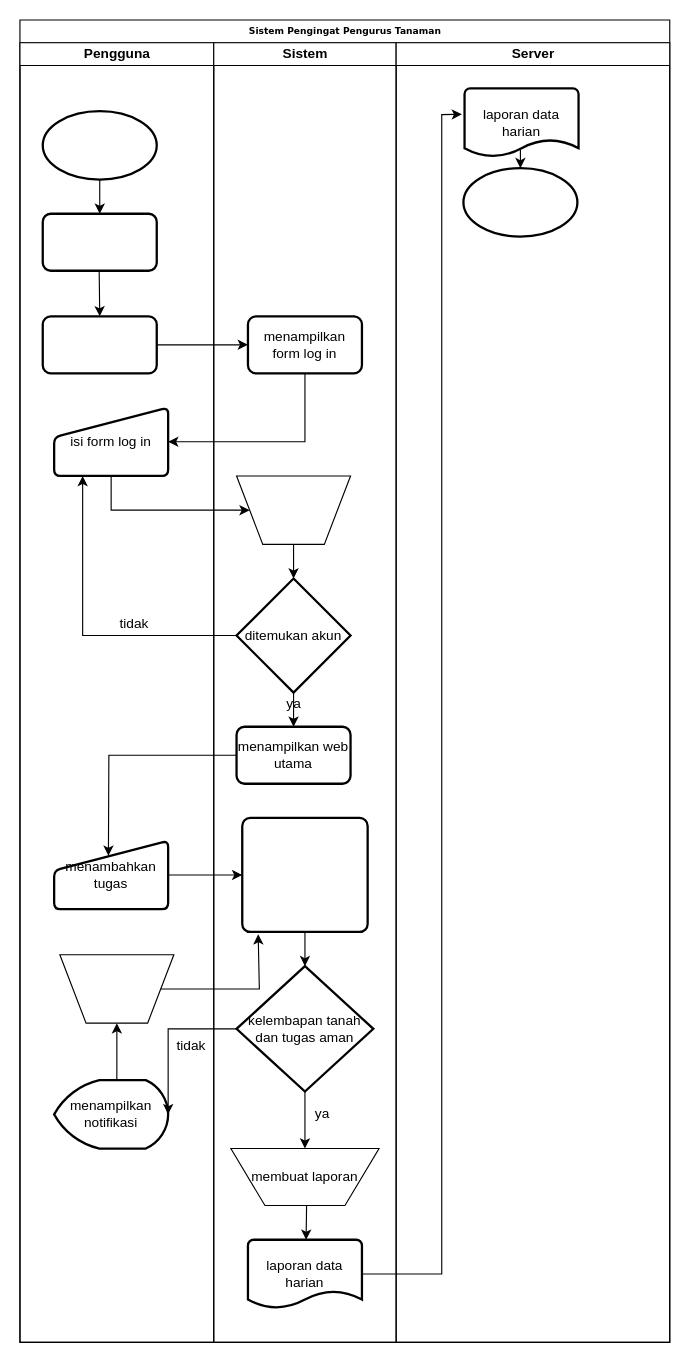
This 690x1362 diagram has some shape labels left out. The centre of each missing label's shape, as x and y in pixels:
"log in" goes at point (99, 344).
"membuka web" goes at point (99, 241).
"memeriksa form log in" goes at point (293, 509).
"memeriksa tugas dan kelembapan tanah" goes at point (304, 874).
"mengerjakan tugas" goes at point (116, 988).
"Mulai" goes at point (99, 144).
"selesai" goes at point (520, 201).
